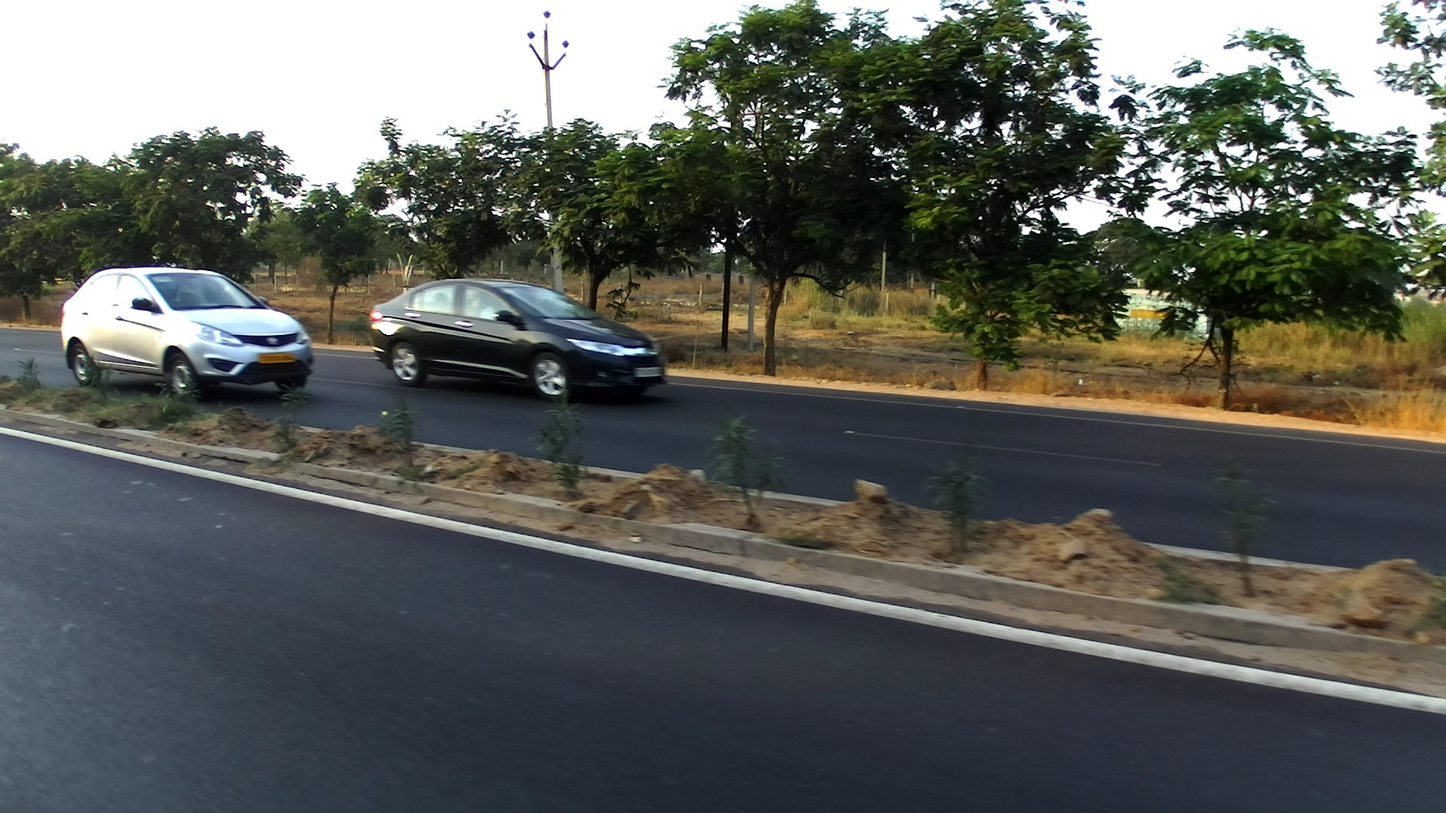car: (365, 273, 663, 406), (59, 266, 314, 406)
